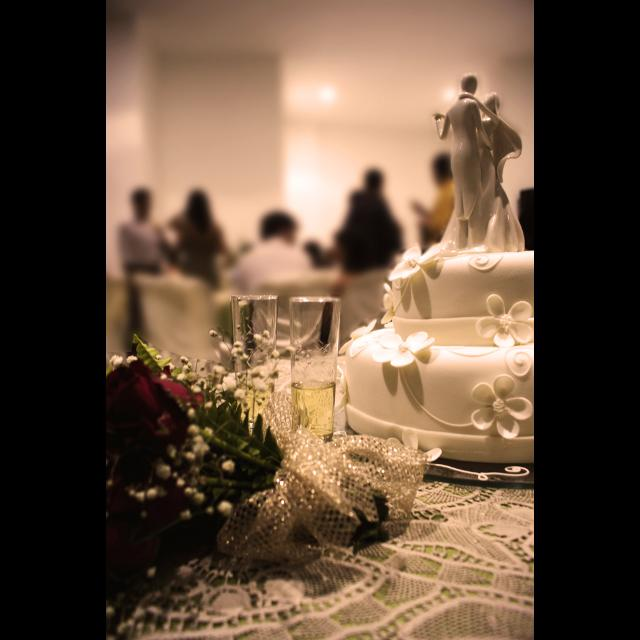Flower: (106, 355, 208, 453), (473, 374, 533, 438), (474, 292, 534, 346), (369, 325, 435, 373), (392, 244, 438, 280), (339, 320, 377, 358)
